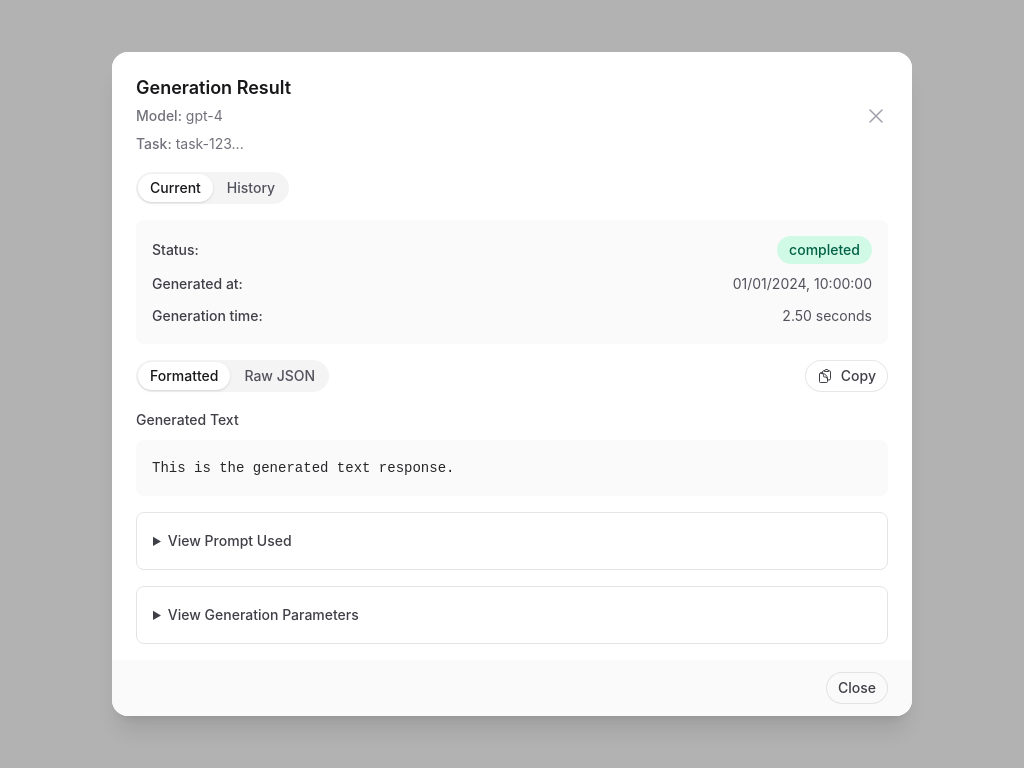
Scenario: GenerationResultModal Component › copy functionality › shows "Copied" confirmation after copying
The width and height of the screenshot is (1024, 768).
Click the button "Copy" at [846, 376], box [805,360,888,392]
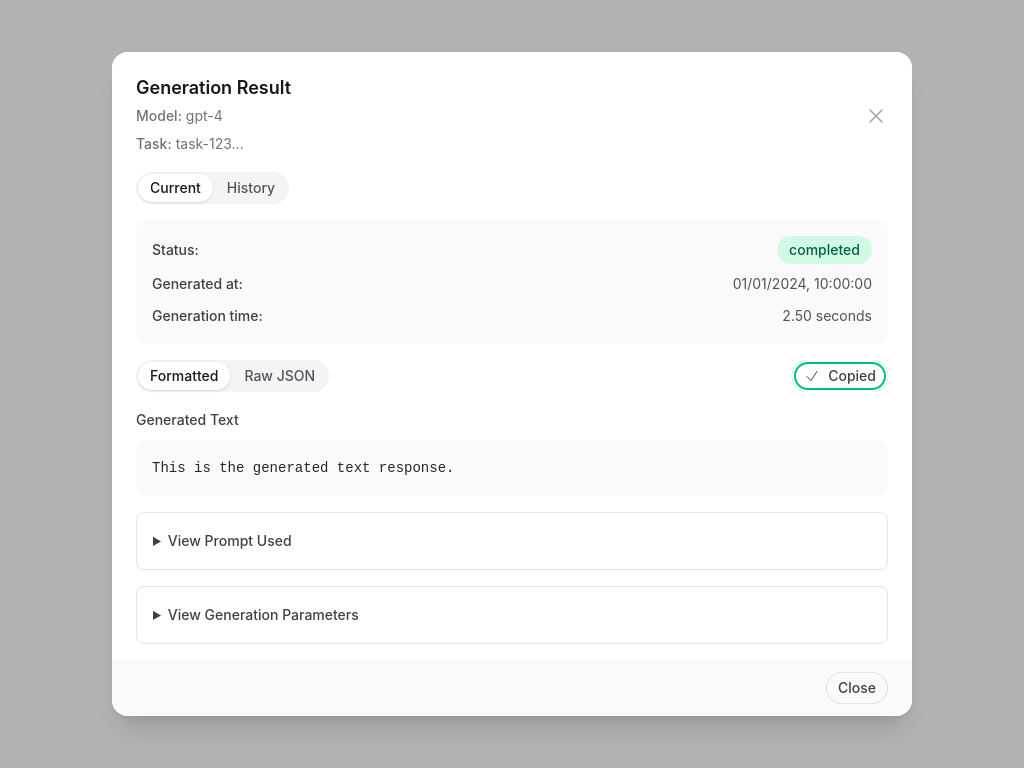
Expected: the button "Copied" is shown, [792,360,888,392]
